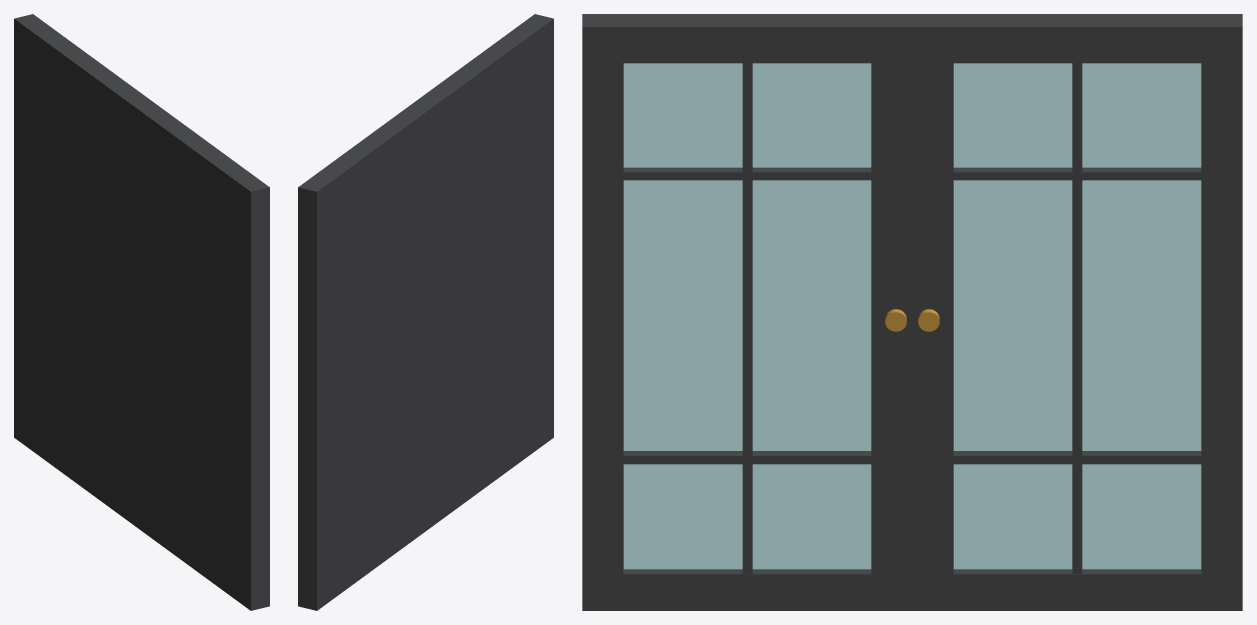
The model's file is 2doorsdown.glb.
3 views of the same model, side by side, from view 1: azimuth 30°, elevation 25°; view 2: azimuth 150°, elevation 25°; view 3: azimuth 270°, elevation 25° (orthographic). The views are drawn at different scales.
Parts seen in each view (by area): view 1: Cube, Cube.001; view 2: Cube.001, Cube; view 3: Cube, Cube.001.
Boxes of the visible parts, x1,y1,x2,y2 form: Cube: [132, 100, 269, 610]; Cube.001: [14, 14, 150, 523]; Cube.001: [298, 100, 435, 610]; Cube: [417, 14, 553, 523]; Cube: [582, 14, 912, 610]; Cube.001: [912, 14, 1242, 610].
Size of the model in its own units: 0.9087 by 15.5 by 15.88.
